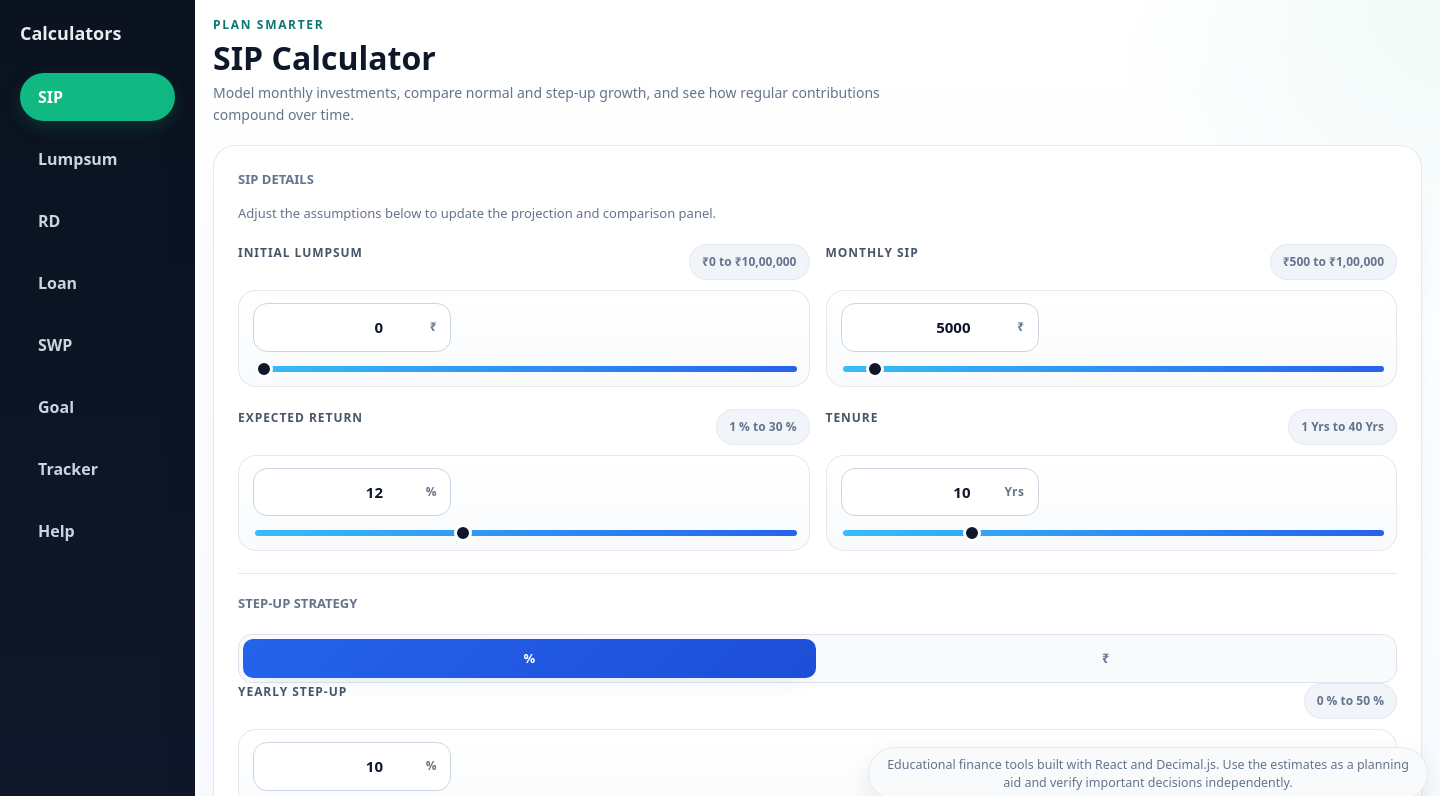
it: App integration › switches between calculator modes and updates the strategy panel and content
Click the button "Loan".
click(98, 283)  # box top-left (20, 259), bottom-right (175, 307)
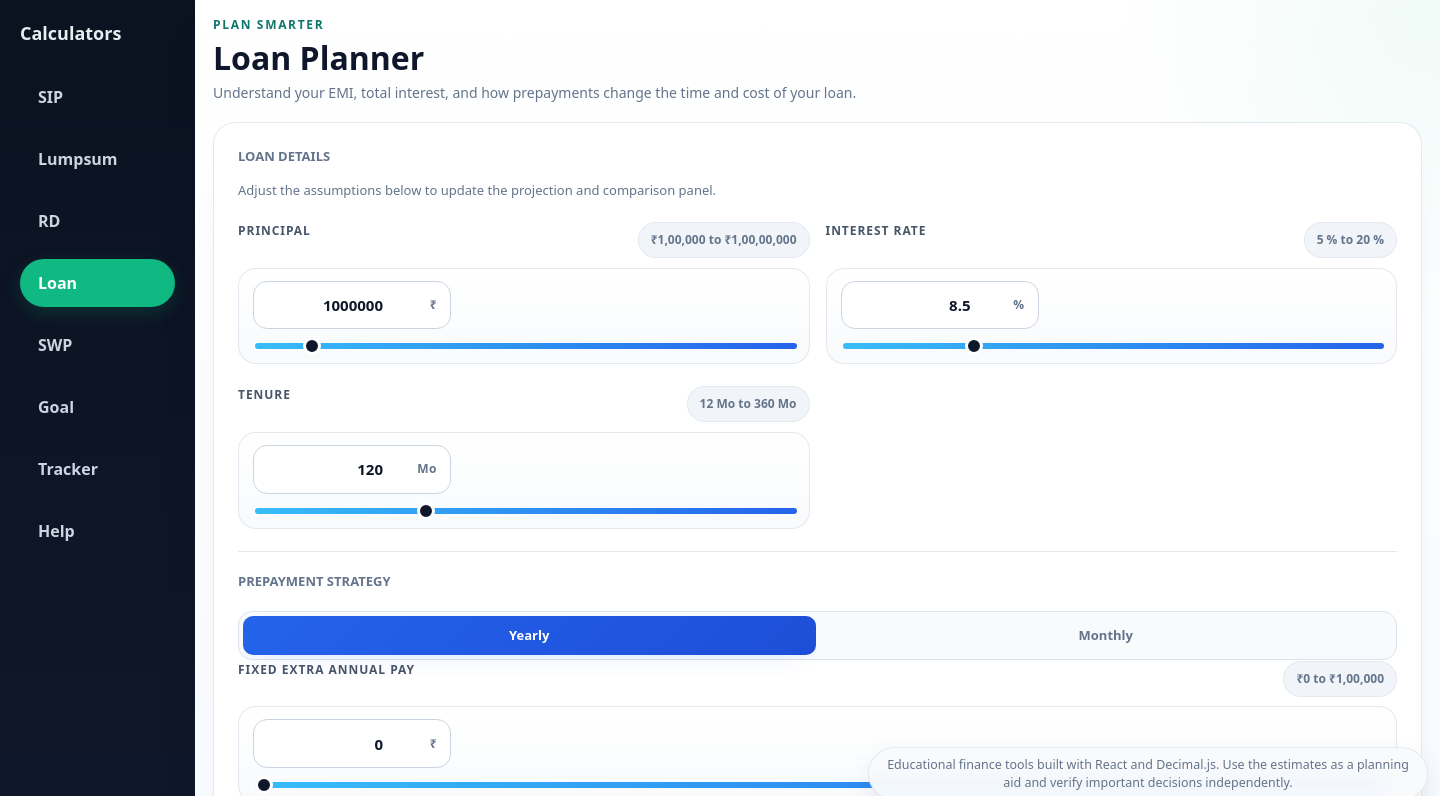
expect the heading "Loan Planner" is shown: met, box top-left (213, 36), bottom-right (424, 79)
expect the text "Prepayment Strategy" is shown: met, box top-left (238, 572), bottom-right (390, 590)
Click the button "Monthly".
click(1106, 636)  # box top-left (820, 616), bottom-right (1392, 656)
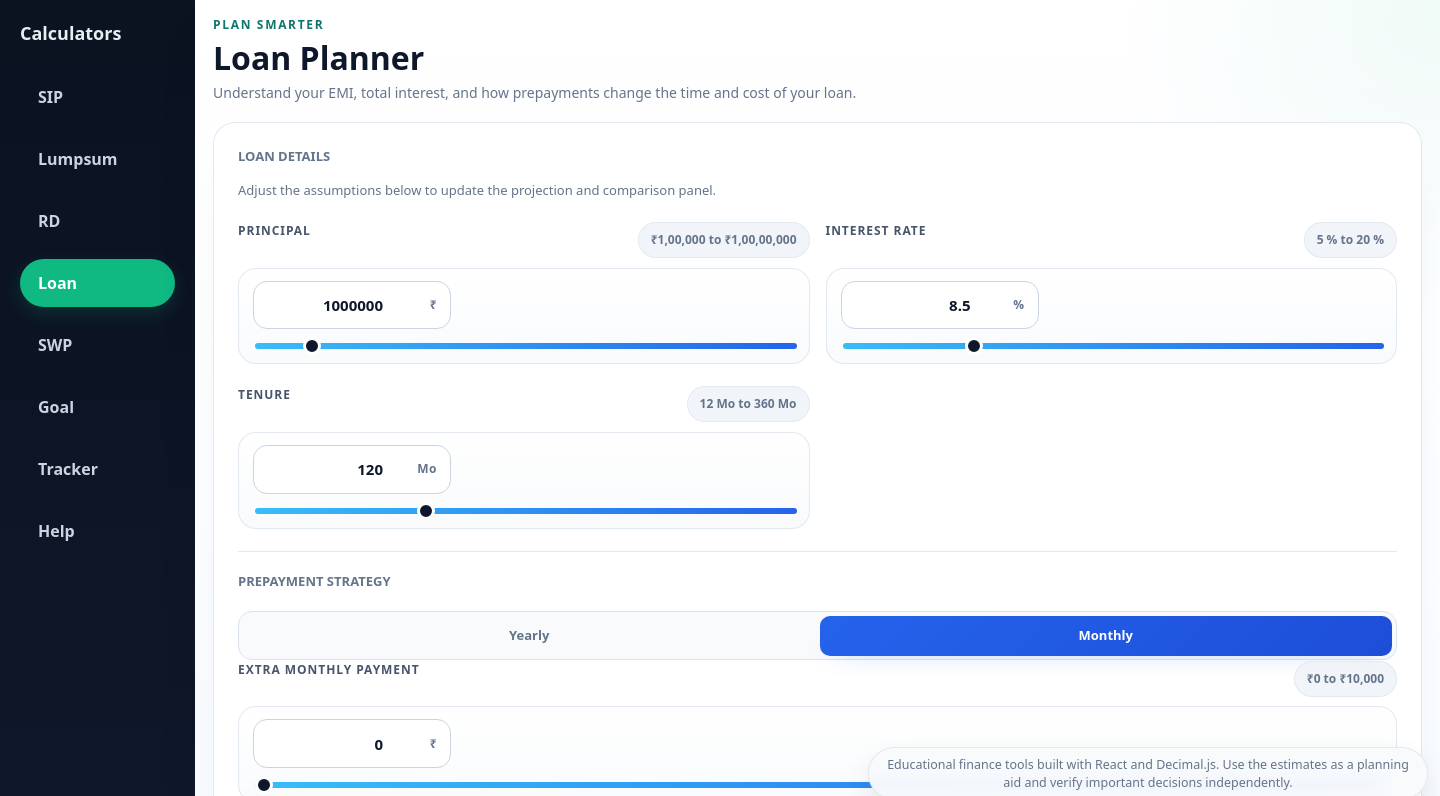
Click the button "Goal".
click(98, 407)  # box top-left (20, 383), bottom-right (175, 431)
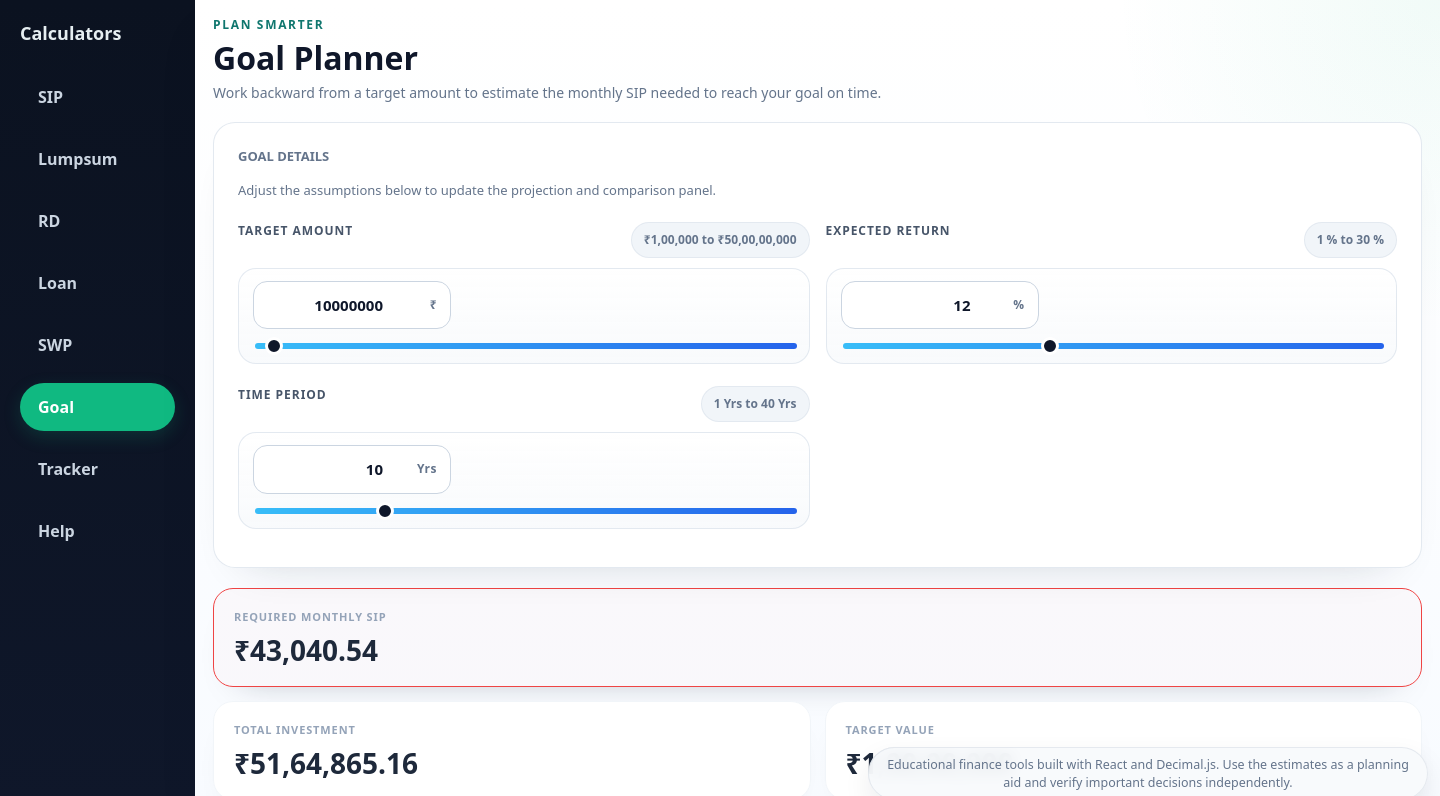
expect the heading "Goal Planner" is shown: met, box top-left (213, 36), bottom-right (418, 79)
expect the text "Goal Details" is shown: met, box top-left (238, 147), bottom-right (329, 165)
expect the text "REQUIRED MONTHLY SIP" is shown: met, box top-left (234, 609), bottom-right (386, 624)
Click the button "Help".
click(98, 531)  # box top-left (20, 507), bottom-right (175, 555)
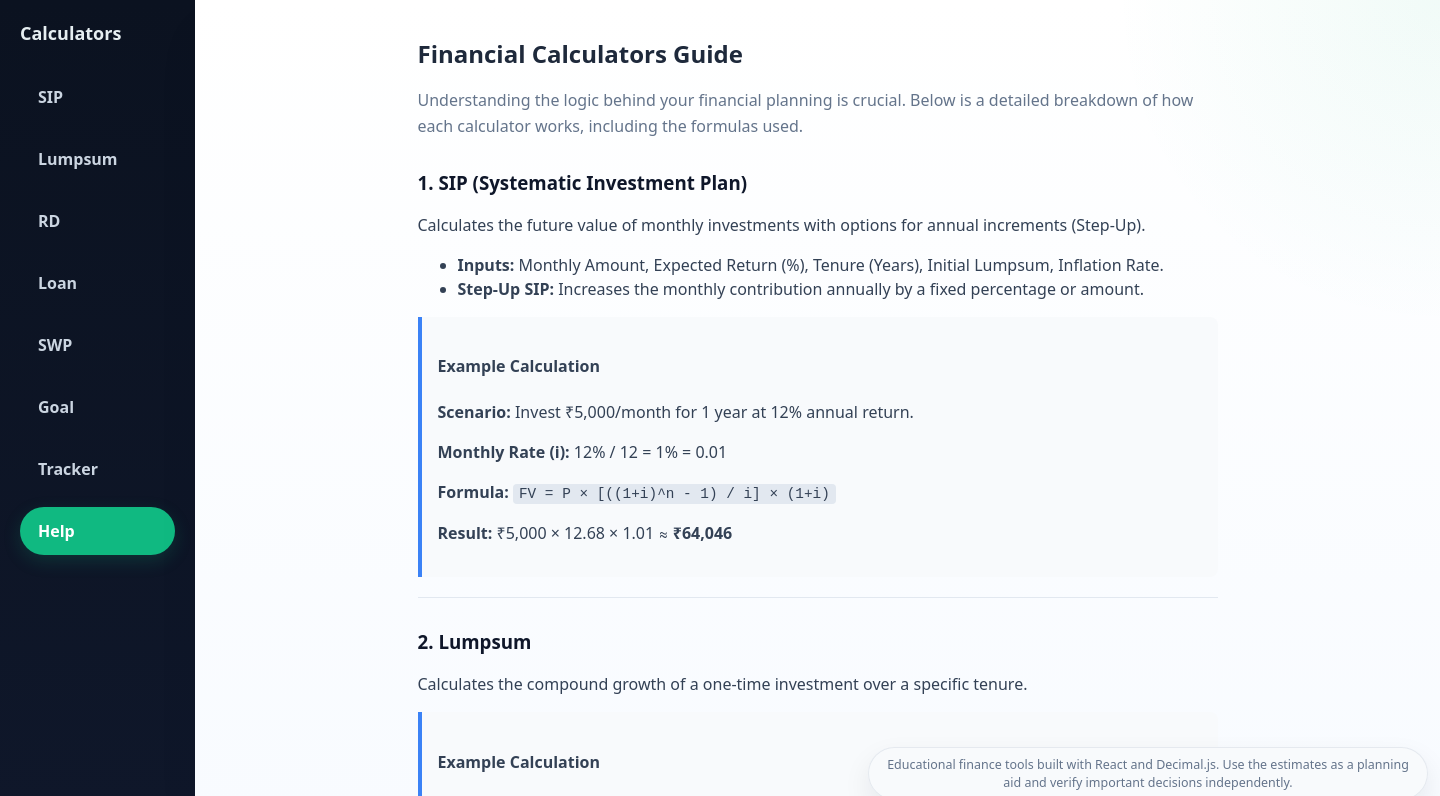
expect the heading "Financial Calculators Guide" is shown: met, box top-left (418, 37), bottom-right (743, 70)
